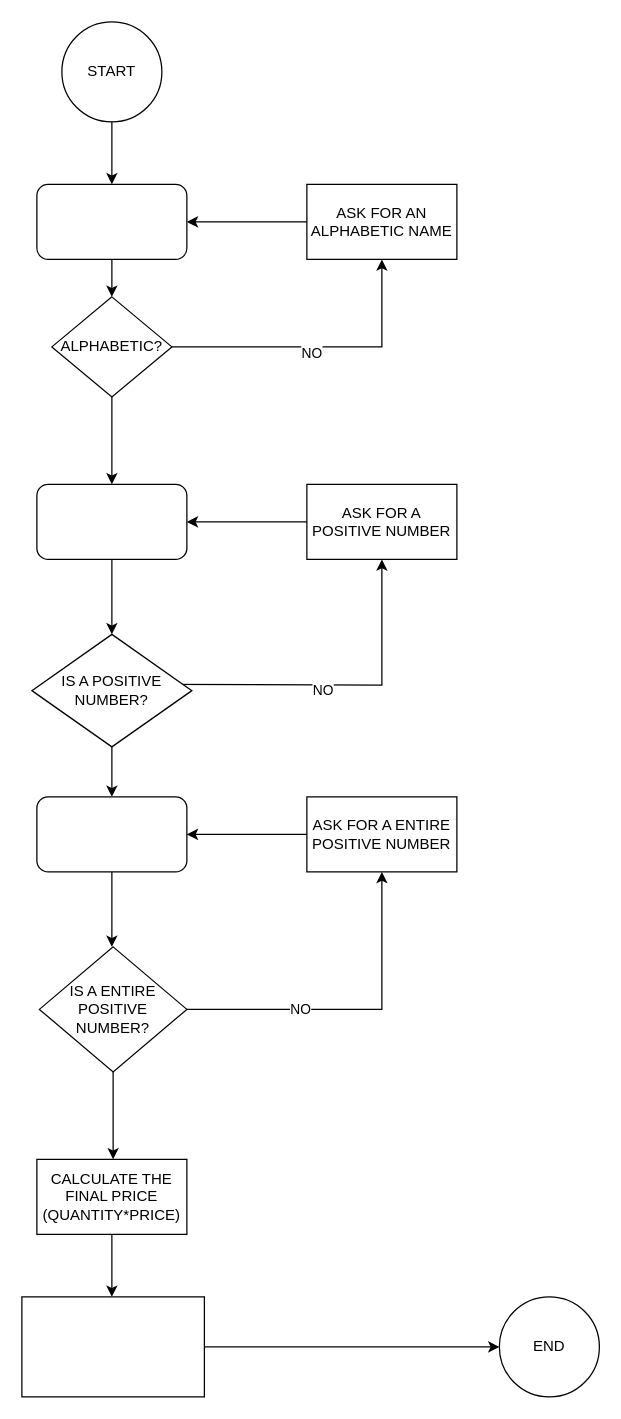
This 621x1419 diagram has some shape labels left out. The centre of each missing label's shape, as x and y in pixels:
ASK FOR QUANTITY OF PRODUCT: pixel 111 834
ASK NAME OF PRODUCT: pixel 111 221
ASK PRICE OF PRODUCT: pixel 111 521
PRINT NAME, PRICE, QUANTITY AND FINAL PRICE: pixel 112 1346
